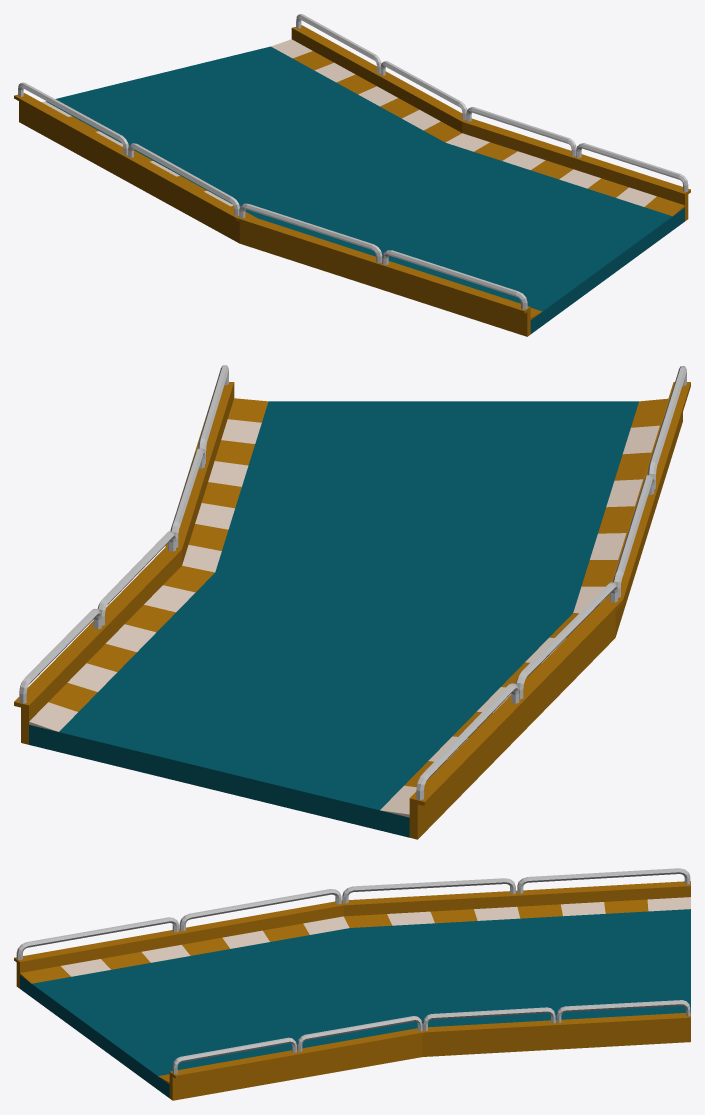
Rendered from curveLeft-30_m.FBX.
3 views of the same model, one above another, from view 1: azimuth 30°, elevation 25°; view 2: azimuth 150°, elevation 25°; view 3: azimuth 270°, elevation 25° (orthographic). The views are drawn at different scales.
Parts seen in each view (by area): view 1: curveLeft-30_m, wall_r, wall_l, curbs_l, curbs_r; view 2: curveLeft-30_m, wall_r, curbs_l, wall_l, curbs_r; view 3: curveLeft-30_m, wall_l, wall_r, curbs_r.
Part boxes in pixels (x1,y1,x2,y2): curveLeft-30_m: [46, 46, 684, 333]; wall_r: [14, 82, 530, 336]; wall_l: [291, 14, 690, 221]; curbs_l: [271, 39, 684, 216]; curbs_r: [41, 101, 542, 319]; curveLeft-30_m: [29, 401, 638, 837]; wall_r: [409, 366, 690, 839]; curbs_l: [29, 398, 268, 731]; wall_l: [14, 365, 234, 744]; curbs_r: [380, 398, 667, 817]; curveLeft-30_m: [20, 909, 690, 1097]; wall_l: [169, 1000, 690, 1100]; wall_r: [14, 868, 690, 988]; curbs_r: [20, 897, 690, 983].
Size of what is drawn, in the model's own units: 295 by 29.31 by 434.
